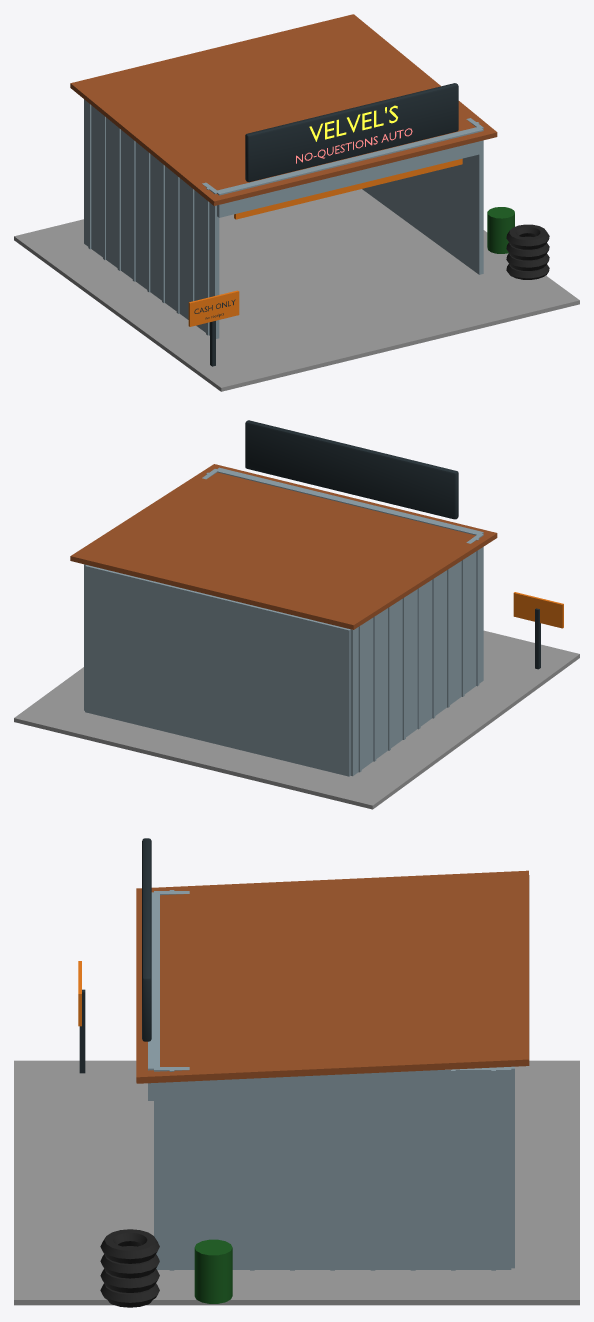
The model's file is underworld_shack.glb.
3 renders of one model, top to bottom at view 1: azimuth 30°, elevation 25°; view 2: azimuth 150°, elevation 25°; view 3: azimuth 270°, elevation 25°, orthographic. The views are drawn at different scales.
Parts seen in each view (by area): view 1: UWShack_body; view 2: UWShack_body; view 3: UWShack_body.
Part boxes in pixels (<box>): UWShack_body: <box>14,14,579,391</box>; UWShack_body: <box>14,420,579,809</box>; UWShack_body: <box>14,838,579,1307</box>.
Bounding box in the file's own units: 9.95 × 5.15 × 9.5.
